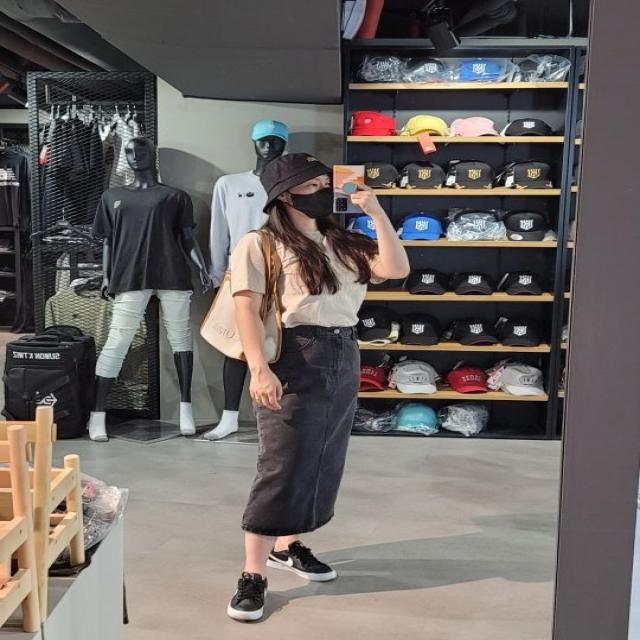shortsleeve: (229, 226, 375, 328)
skirt: (242, 327, 361, 537)
